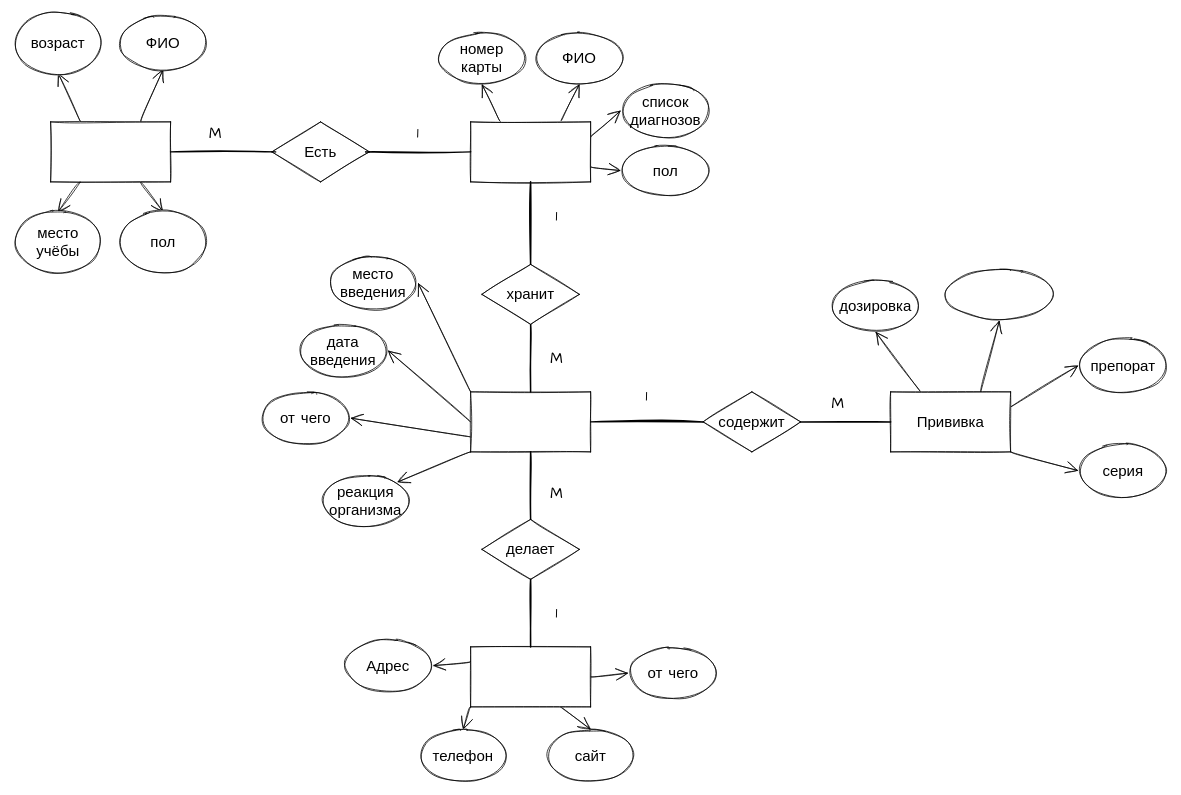
The diagram is 1181 pixels wide and 795 high, and some of its shapes have lost their labels. Each missing label, with the box of its shape:
Медицинская карта: (470, 121, 591, 182)
медицинский центр: (470, 646, 591, 707)
производитель: (942, 267, 1056, 321)
Ребёнок: (50, 121, 171, 182)
Сделанные прививки: (470, 391, 591, 452)
